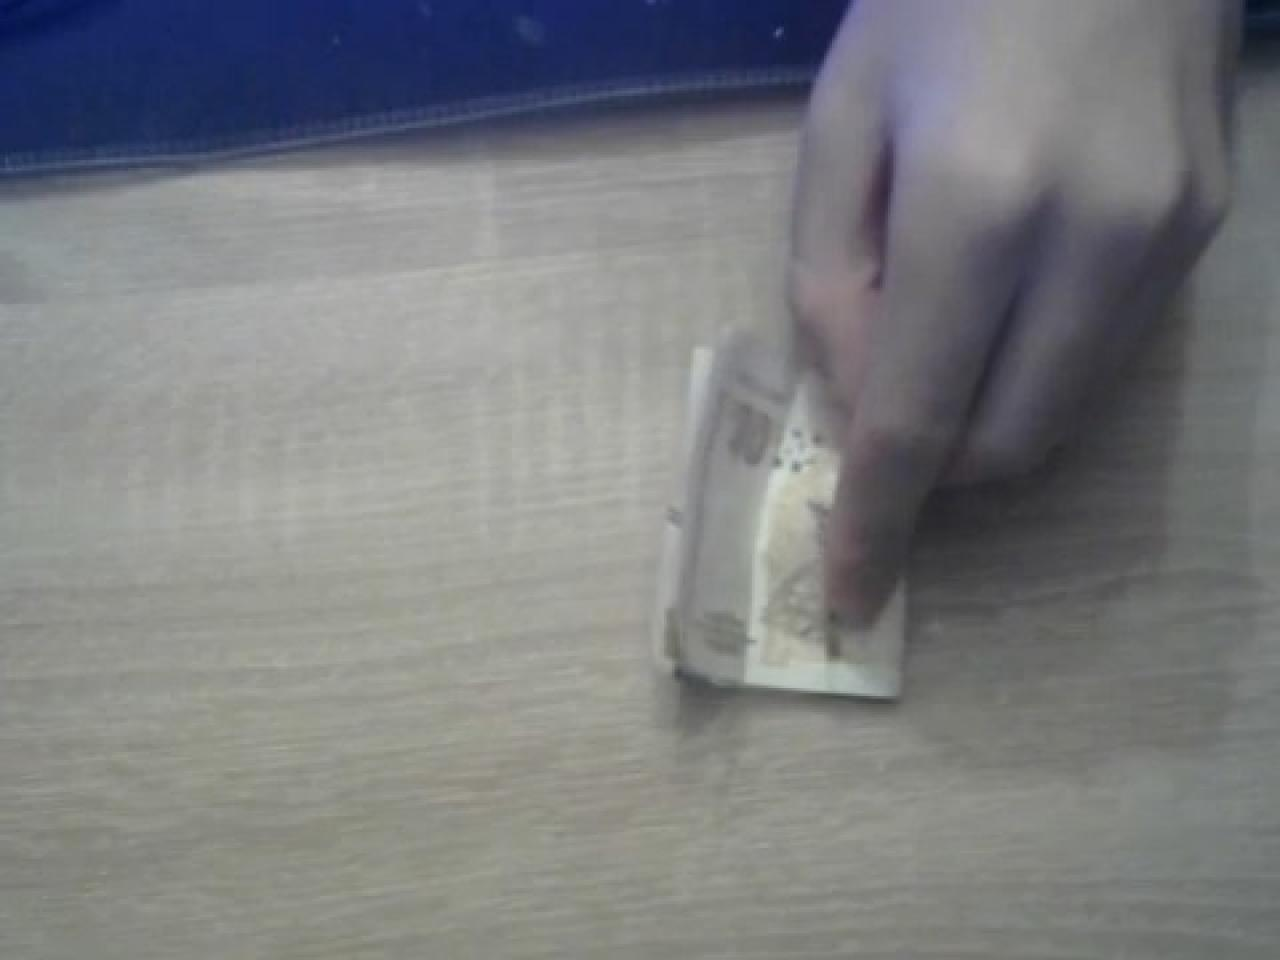10leva: (650, 323, 914, 704)
